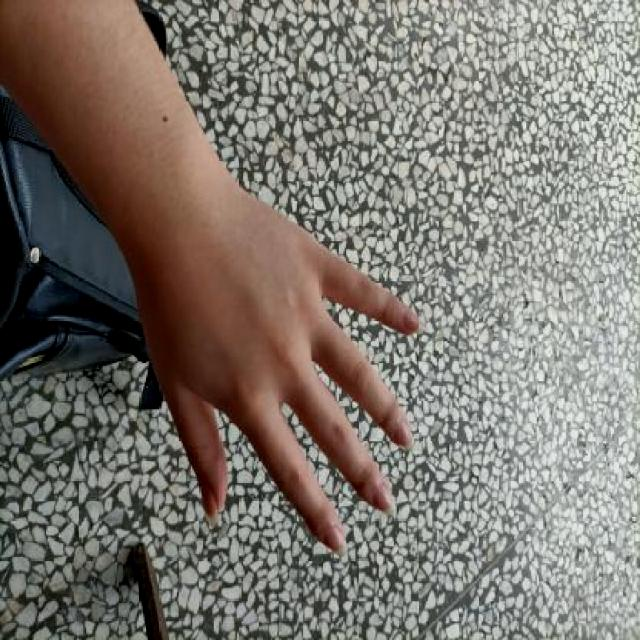no_glove: (124, 166, 430, 572)
